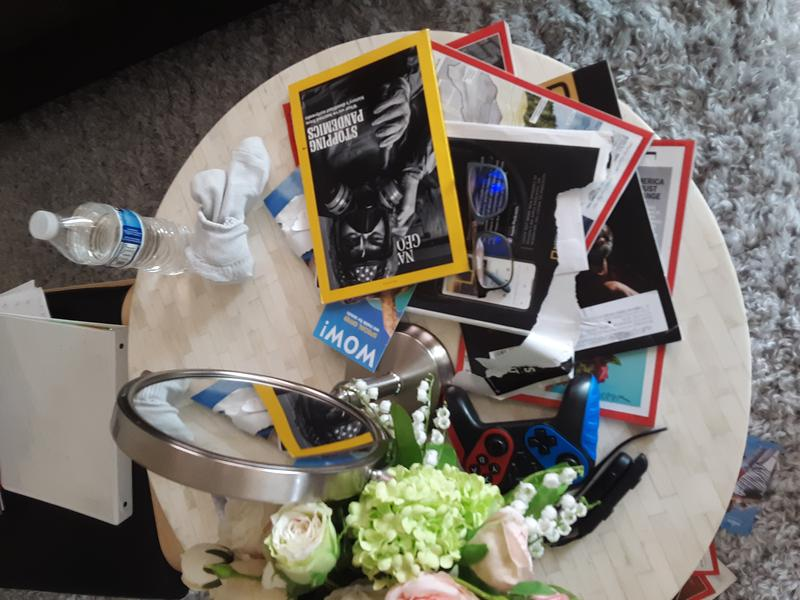glasses: (459, 154, 517, 299)
